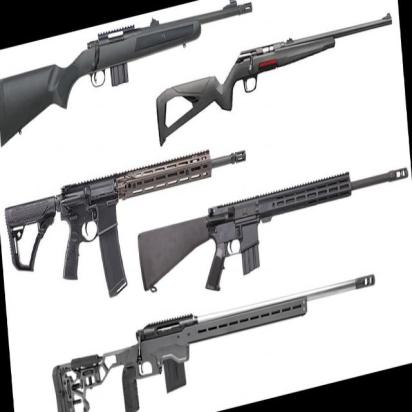Gun: (46, 269, 378, 412), (133, 154, 412, 306), (0, 138, 249, 301), (146, 10, 401, 145), (0, 0, 259, 109)
